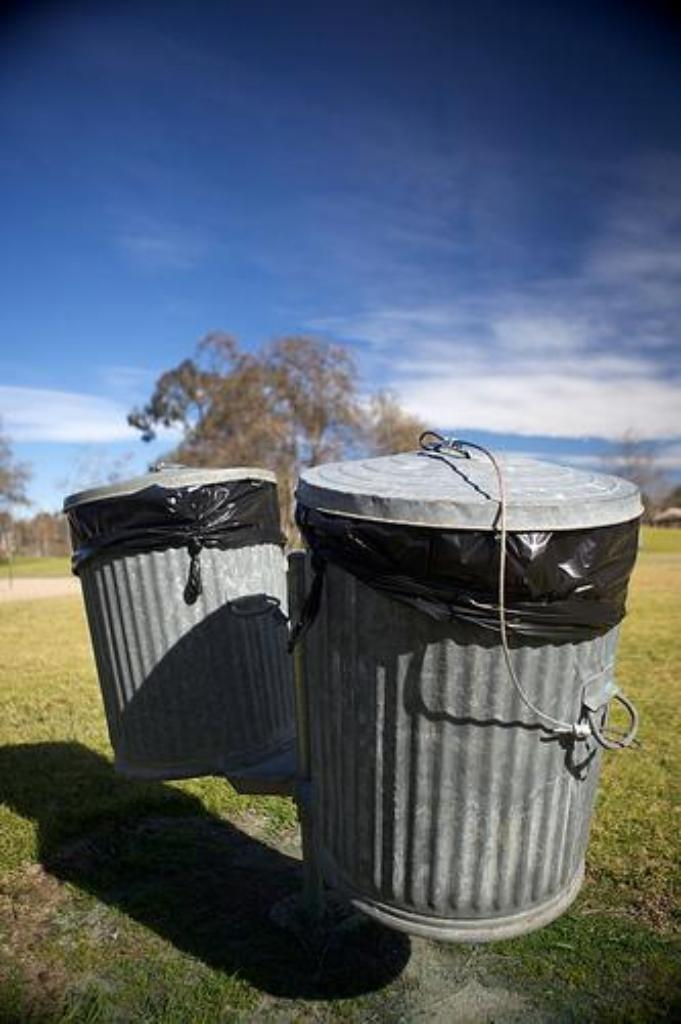dustbin: (61, 450, 658, 941), (294, 451, 638, 946), (60, 463, 318, 797)
